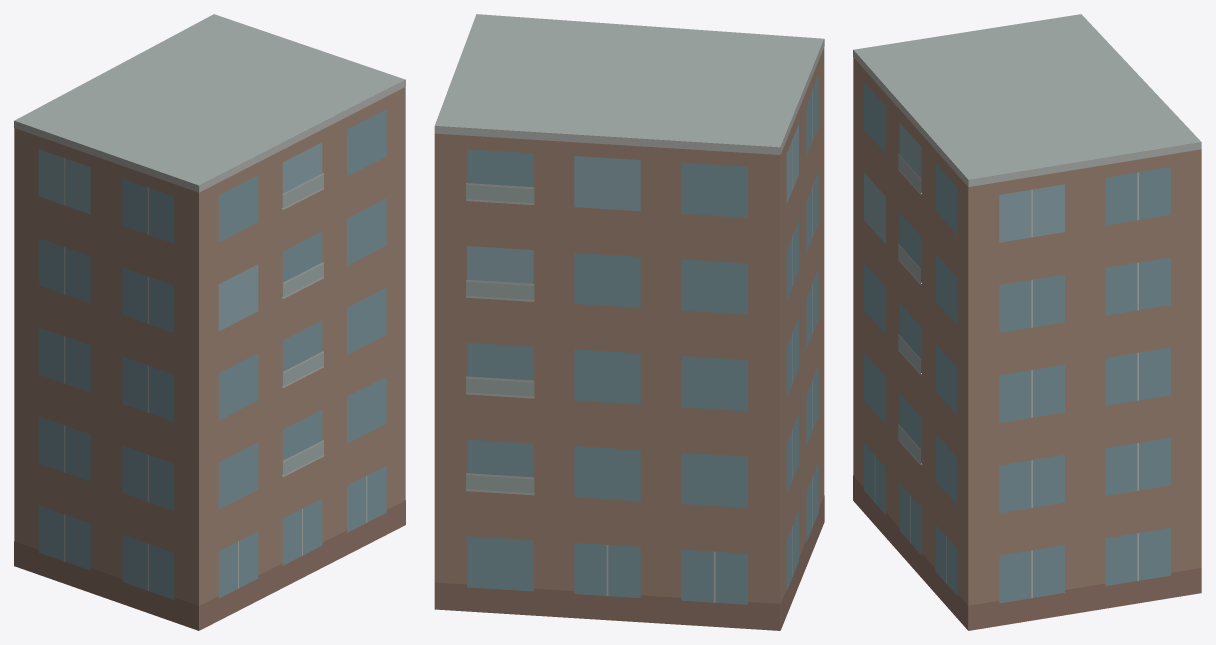
Rendered from residential-6ce2c982-8171-4e3f-9ea6-255c538c2ec4.glb.
3 renders of one model, left to right at view 1: azimuth 30°, elevation 25°; view 2: azimuth 150°, elevation 25°; view 3: azimuth 270°, elevation 25°, orthographic. The views are drawn at different scales.
Parts seen in each view (by area): view 1: residential-6ce2c982-8171-4e3f-9ea6-255c538c2ec4.tmp; view 2: residential-6ce2c982-8171-4e3f-9ea6-255c538c2ec4.tmp; view 3: residential-6ce2c982-8171-4e3f-9ea6-255c538c2ec4.tmp.
Part boxes in pixels (x1=…): residential-6ce2c982-8171-4e3f-9ea6-255c538c2ec4.tmp: x1=14, y1=14, x2=405, y2=630; residential-6ce2c982-8171-4e3f-9ea6-255c538c2ec4.tmp: x1=434, y1=14, x2=824, y2=630; residential-6ce2c982-8171-4e3f-9ea6-255c538c2ec4.tmp: x1=853, y1=14, x2=1201, y2=630.
Size of the model in its own units: 12.04 by 15.25 by 10.69.
